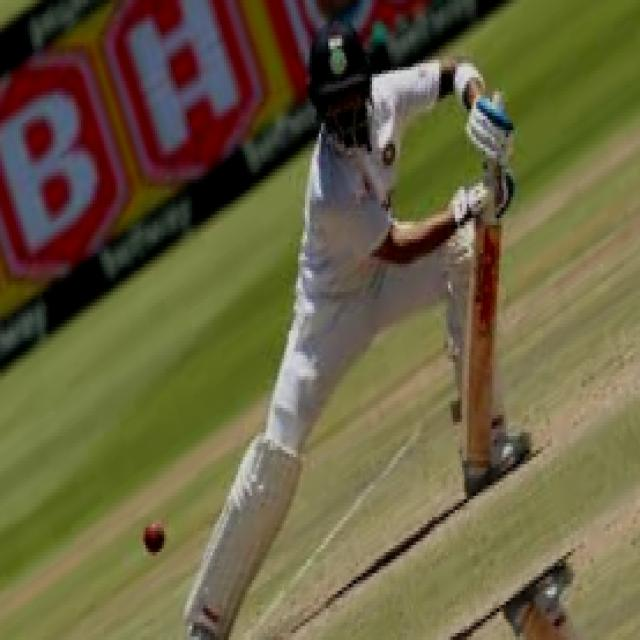toe: (457, 410, 497, 482)
